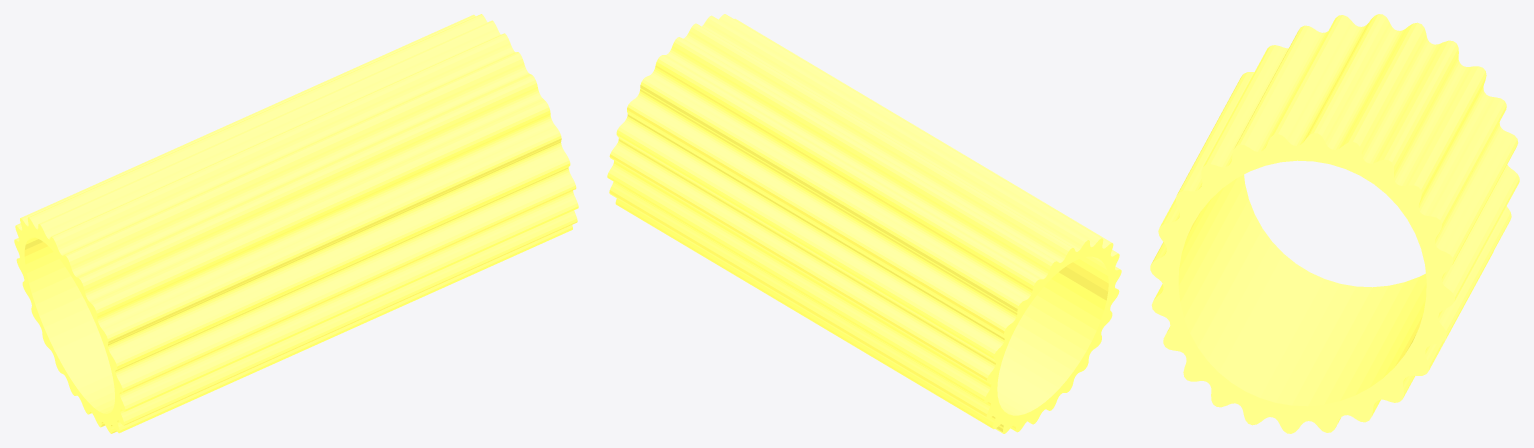
The model's file is Rigatoni.005.gltf.
3 renders of one model, left to right at view 1: azimuth 30°, elevation 25°; view 2: azimuth 150°, elevation 25°; view 3: azimuth 270°, elevation 25°, orthographic. The views are drawn at different scales.
Parts seen in each view (by area): view 1: Rigatoni.005; view 2: Rigatoni.005; view 3: Rigatoni.005.
Part boxes in pixels (x1,y1,x2,y2): Rigatoni.005: [14, 14, 578, 433]; Rigatoni.005: [607, 14, 1121, 433]; Rigatoni.005: [1150, 14, 1519, 433].
Size of the model in its own units: 6.31 by 4.05 by 3.22.
